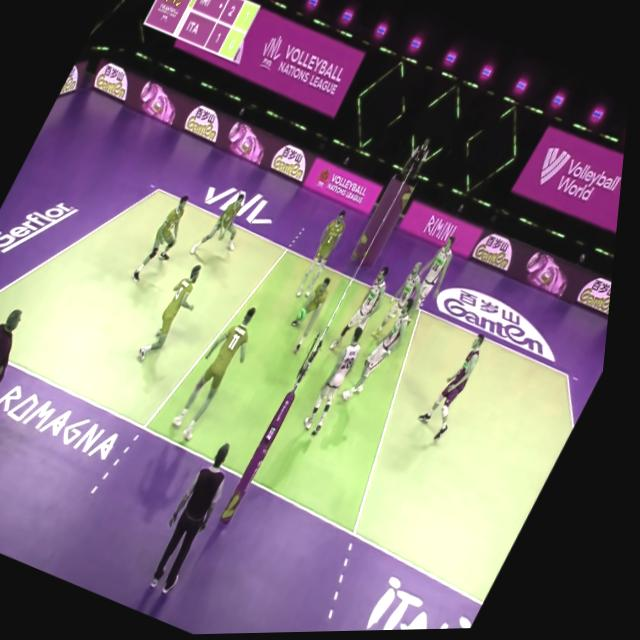player: (171, 301, 269, 452), (420, 327, 504, 446), (349, 292, 424, 415), (304, 321, 380, 440), (141, 260, 215, 370), (334, 260, 403, 359), (140, 192, 203, 287), (408, 233, 472, 325), (296, 208, 357, 302), (196, 184, 265, 266), (380, 259, 439, 349), (284, 274, 346, 359)
